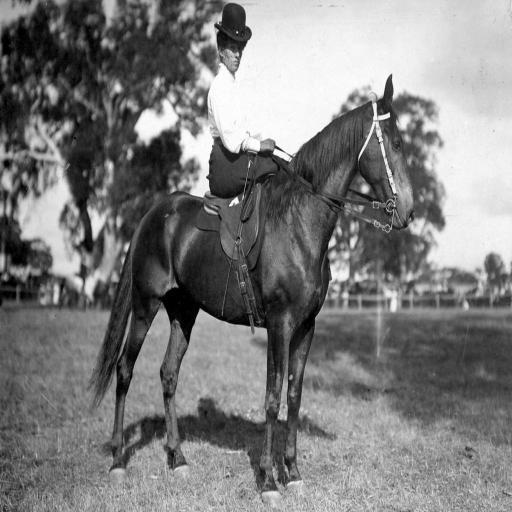horse: (87, 74, 415, 512)
